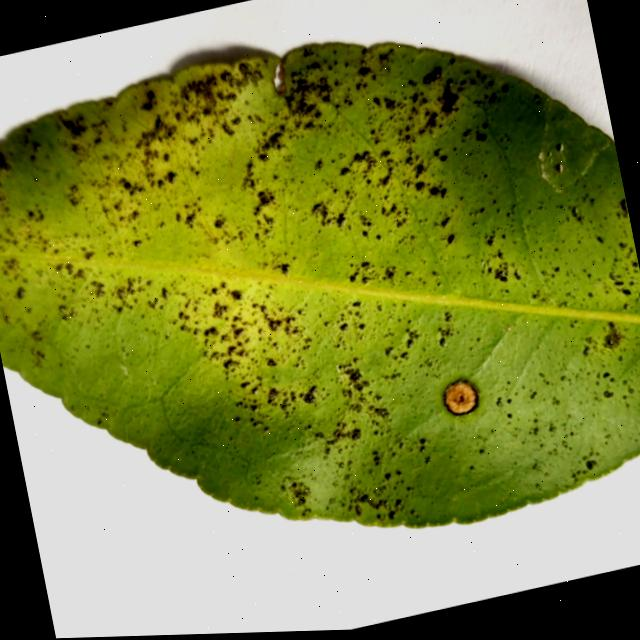antracnose: (0, 44, 640, 527), (445, 381, 478, 414)
